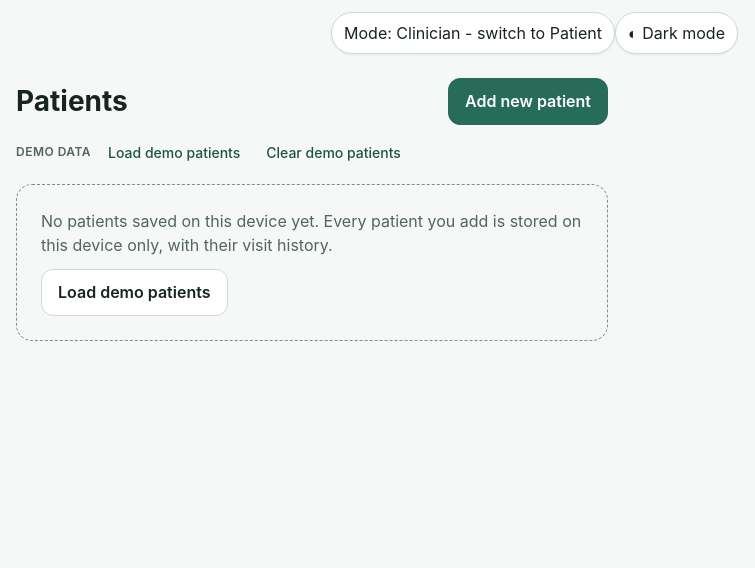
Test case: App clinician patient list › loads clearly marked demo patients only after a clinician opts in
The width and height of the screenshot is (755, 568).
expect the text "DEMO-MET-001" is not shown: met
Click the button "Load demo patients" next to "Demo data". click: point(174, 152)
box: [99, 137, 249, 168]
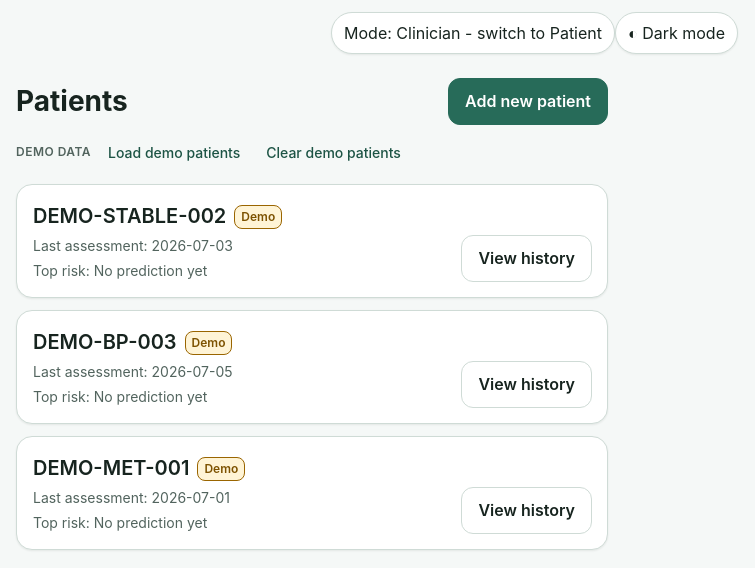
expect the text "DEMO-MET-001" is shown: met, box [33, 456, 189, 480]
expect the text "DEMO-STABLE-002" is shown: met, box [33, 204, 226, 228]
expect the text "DEMO-BP-003" is shown: met, box [33, 330, 177, 354]
